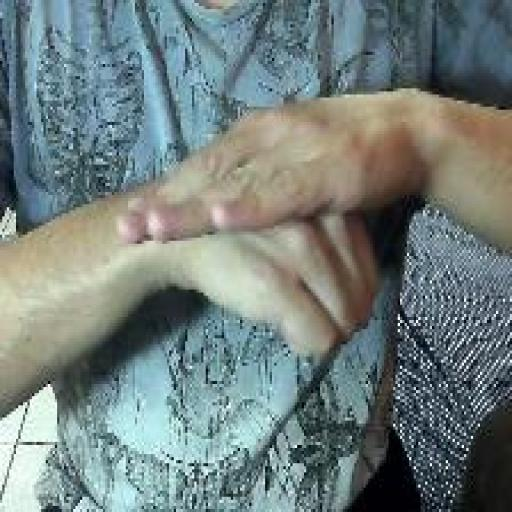Inu -dog-: (112, 90, 382, 361)
